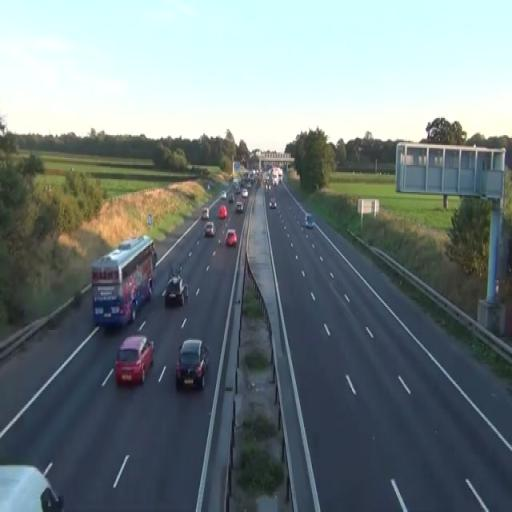Bus: (90, 234, 157, 328)
Car: (0, 459, 65, 512), (114, 335, 154, 386), (174, 339, 209, 389), (162, 275, 188, 307), (224, 229, 238, 247), (204, 220, 216, 238), (234, 202, 244, 213), (270, 201, 276, 210)
